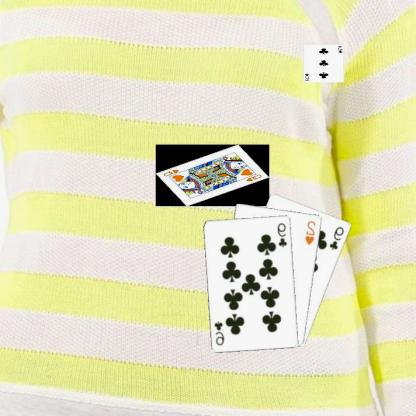2H: (304, 218, 319, 246)
9C: (328, 224, 347, 251), (213, 318, 228, 346), (277, 221, 290, 249)
